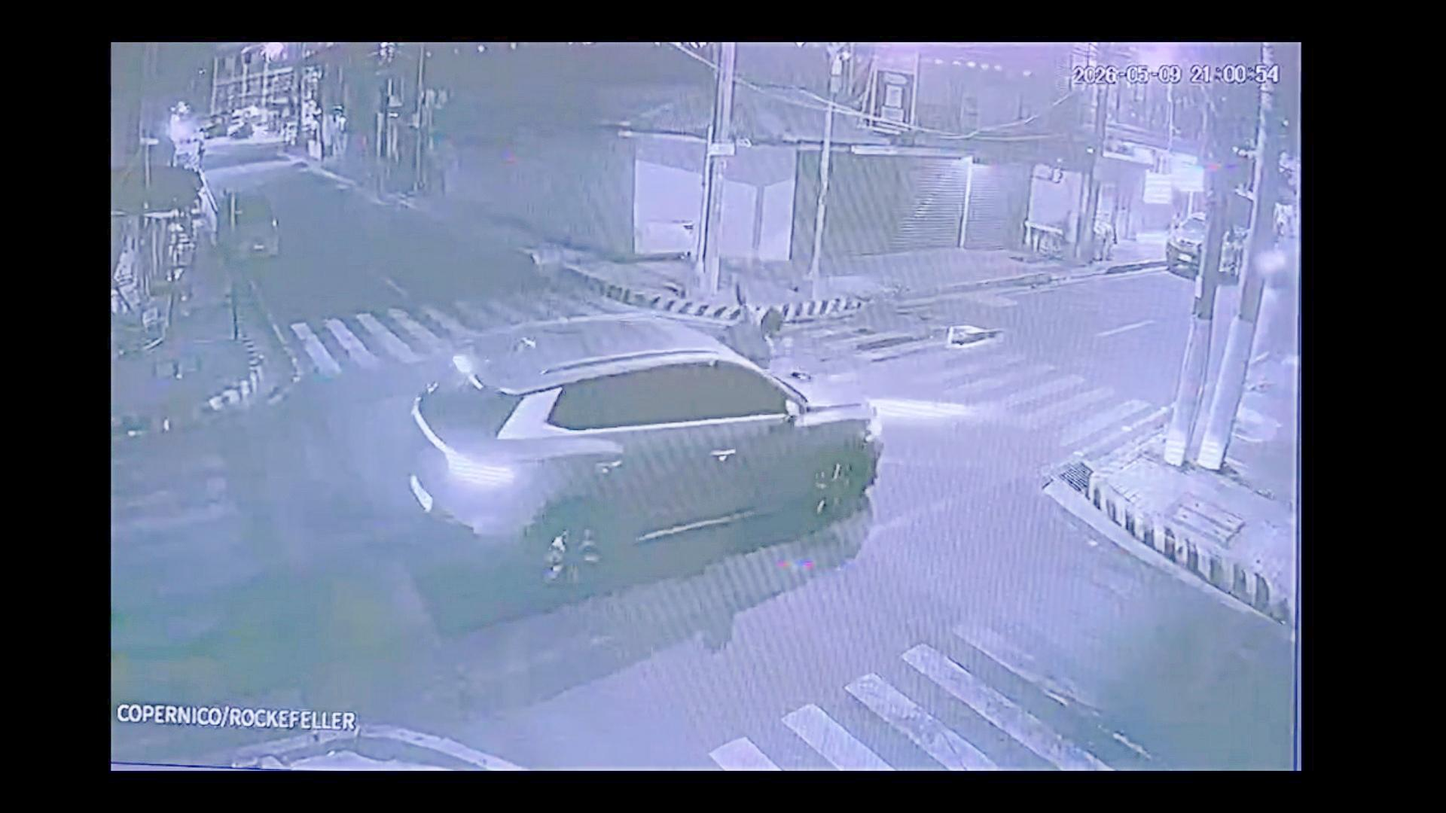Car: (454, 322, 871, 554)
Minor Accident: (453, 308, 873, 560)
Motor: (697, 313, 808, 371)
